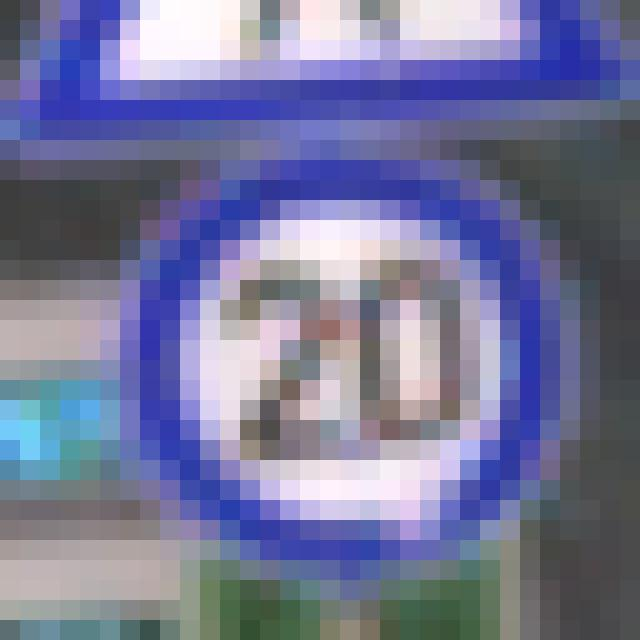SPEED LIMIT 20: (130, 155, 586, 556)
